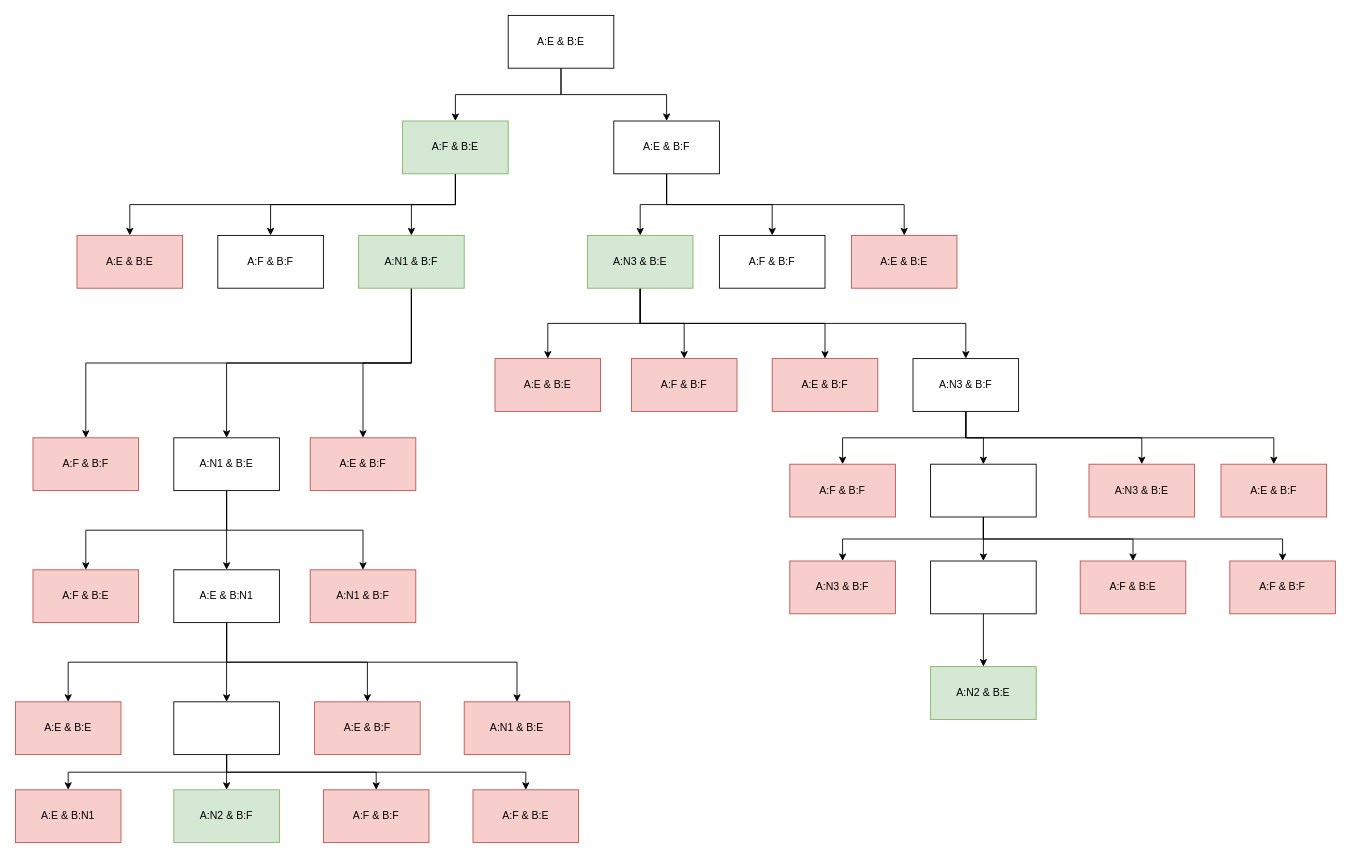
Some shapes in this 1351 by 858 pixel diagram are drawn without their labels. Here are the shapes that lost their labels. From the top down, the centre of each, then its label:
At pixel 983 490: "A:F & B:N2".
At pixel 983 587: "A:E & B:N2".
At pixel 226 728: "A:F & B:N1".
